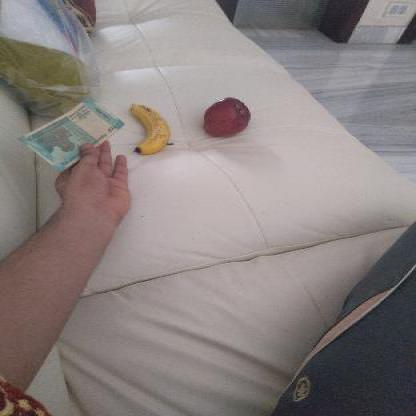New50Back: (21, 98, 123, 164)
